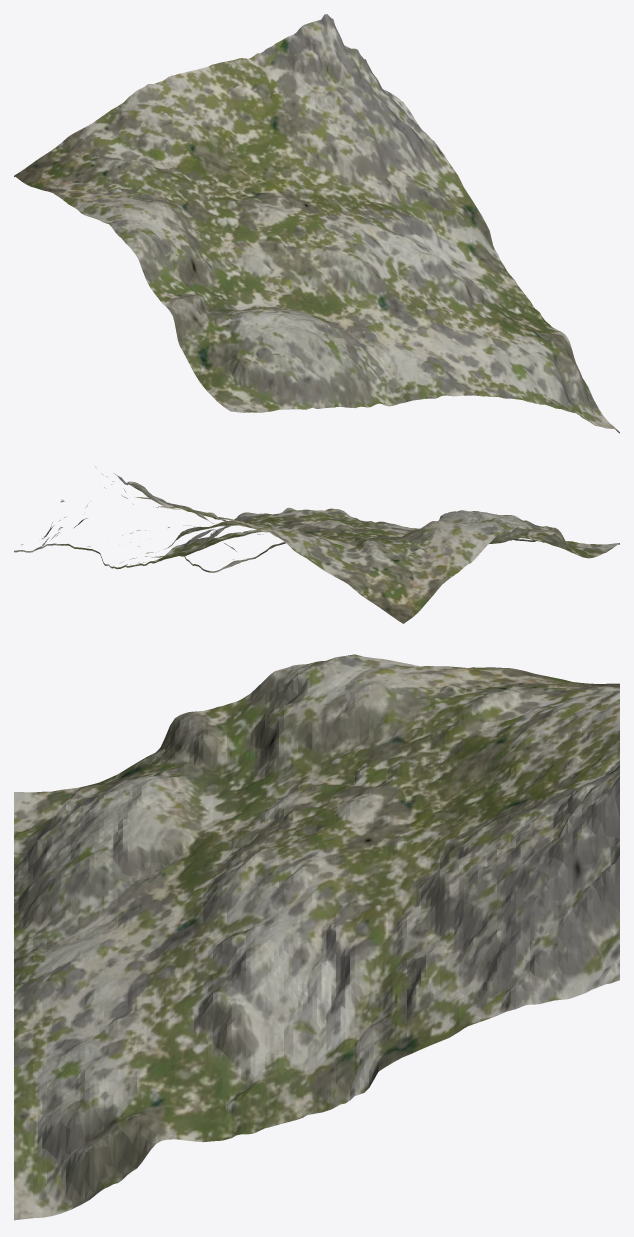
The picture shows the model from 3 angles, top to bottom: view 1: azimuth 30°, elevation 25°; view 2: azimuth 150°, elevation 25°; view 3: azimuth 270°, elevation 25°; orthographic projection. The views are drawn at different scales.
Size of the model in its own units: 250 by 172 by 241.
1 material, 1 textured.
